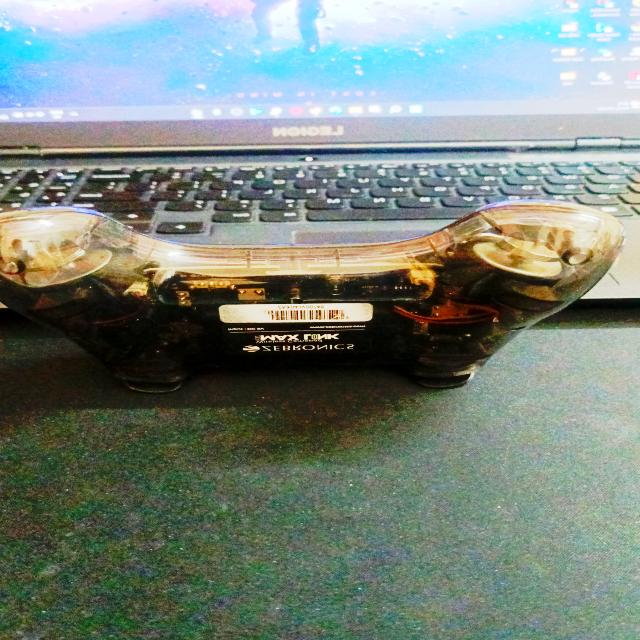gamepad: (0, 198, 627, 393)
